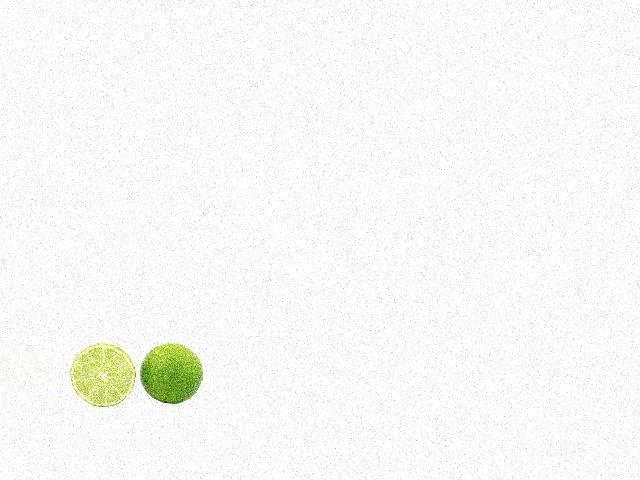lemon: (140, 344, 202, 407)
